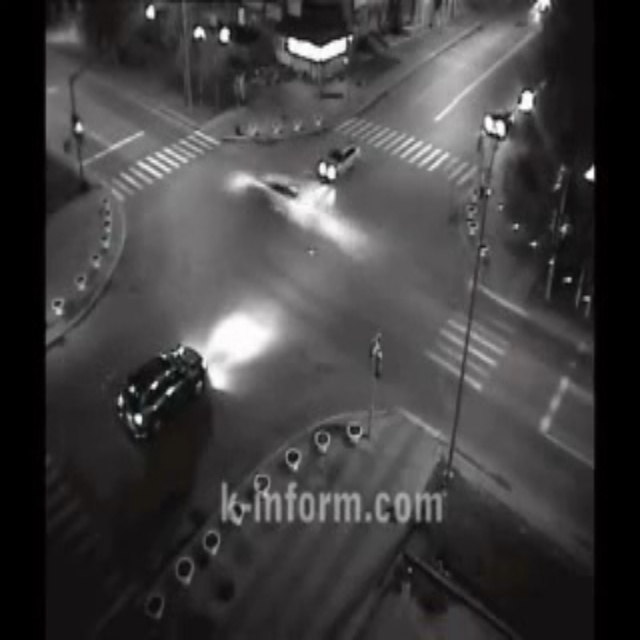acc: (228, 136, 380, 246)
